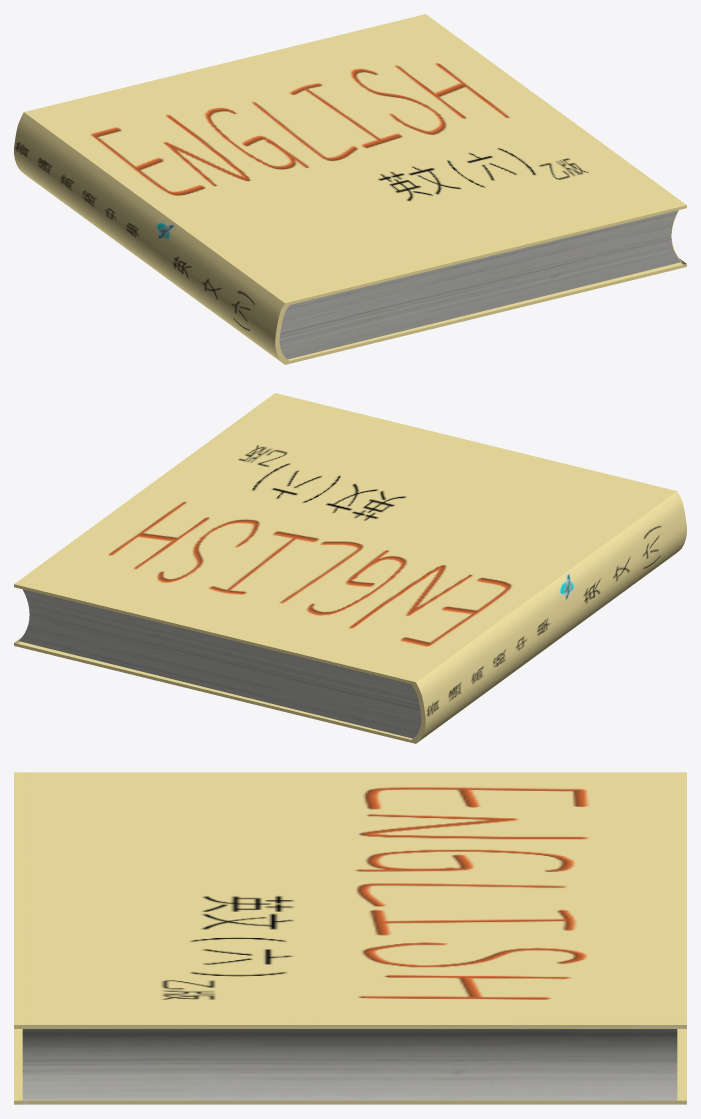
3 renders of one model, top to bottom at view 1: azimuth 30°, elevation 25°; view 2: azimuth 150°, elevation 25°; view 3: azimuth 270°, elevation 25°, orthographic. The views are drawn at different scales.
Visible parts, largest first — view 1: Box002, Arc001; view 2: Box002, Arc001; view 3: Box002, Arc002.
Boxes of the visible parts, x1,y1,x2,y2 form: Box002: (14, 14, 686, 364); Arc001: (279, 210, 680, 359); Box002: (14, 393, 686, 743); Arc001: (19, 589, 421, 738); Box002: (14, 772, 686, 1104); Arc002: (22, 1029, 677, 1100).
Bounding box in the file's own units: 8.77 × 1.26 × 9.64.
1 material, 1 textured.
